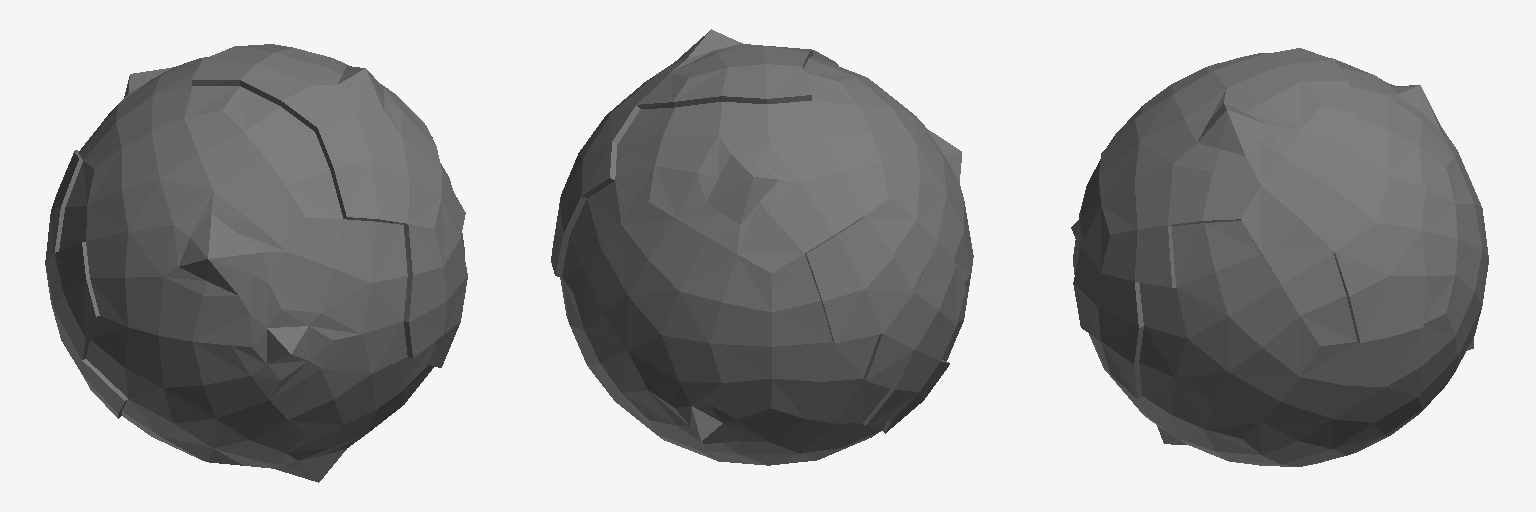
File: BabyEarth.obj
3 views of the same model, side by side, from view 1: azimuth 30°, elevation 25°; view 2: azimuth 150°, elevation 25°; view 3: azimuth 270°, elevation 25° (orthographic).
Parts seen in each view (by area): view 1: pPlatonic8 EarthLava; view 2: pPlatonic8 EarthLava; view 3: pPlatonic8 EarthLava.
Boxes of the visible parts, x1,y1,x2,y2 form: pPlatonic8 EarthLava: [45, 44, 467, 482]; pPlatonic8 EarthLava: [551, 29, 973, 465]; pPlatonic8 EarthLava: [1071, 48, 1488, 466].
Bounding box in the file's own units: 20.14 × 20.32 × 20.09.